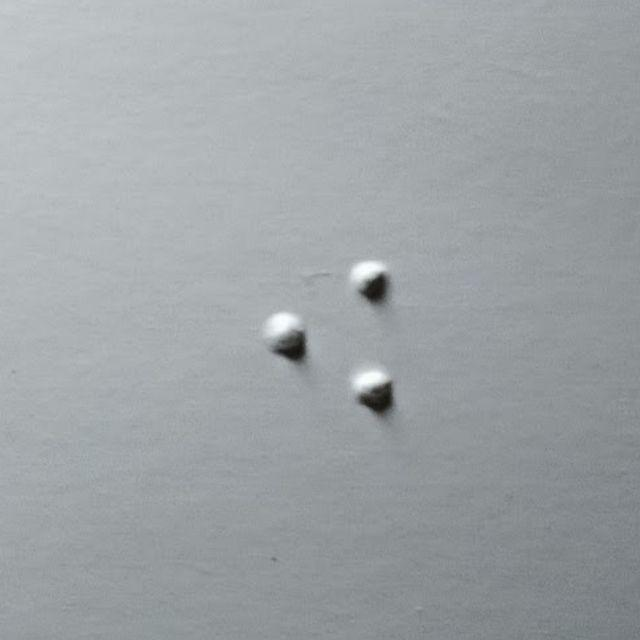dot_5: (210, 265, 307, 418)
kailangan: (353, 263, 450, 415)
